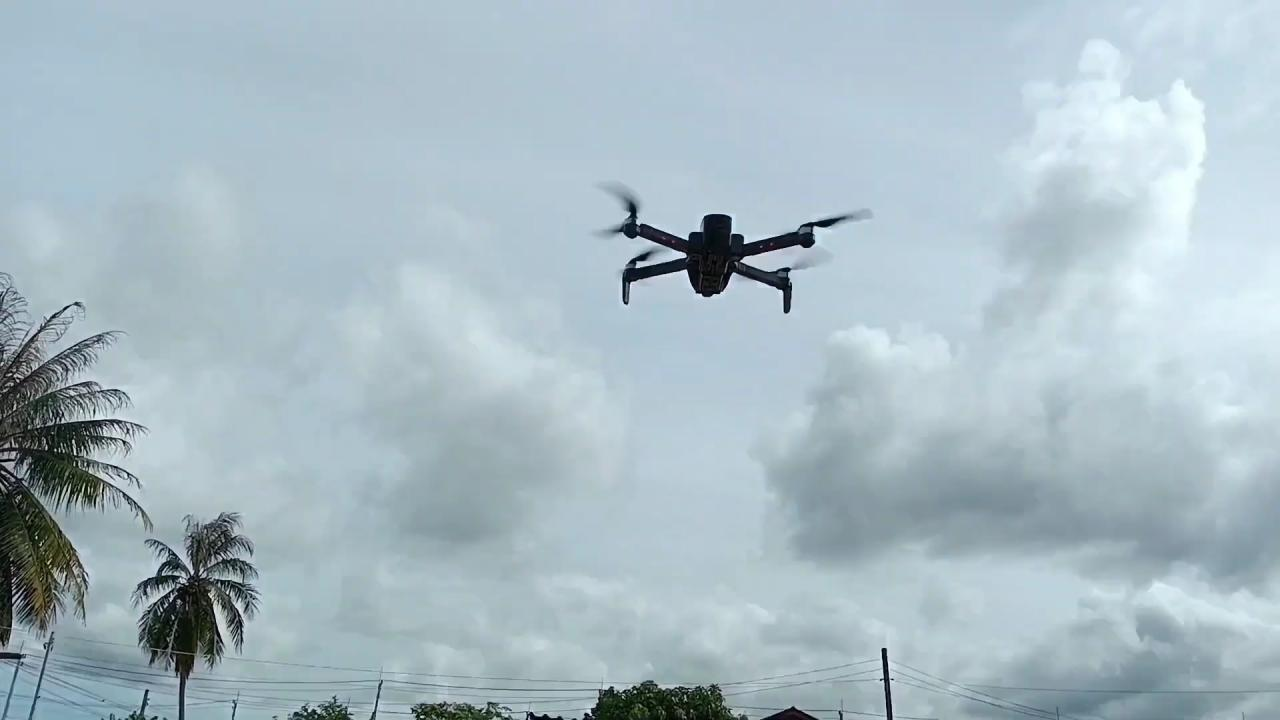Drone: (568, 162, 886, 338)
